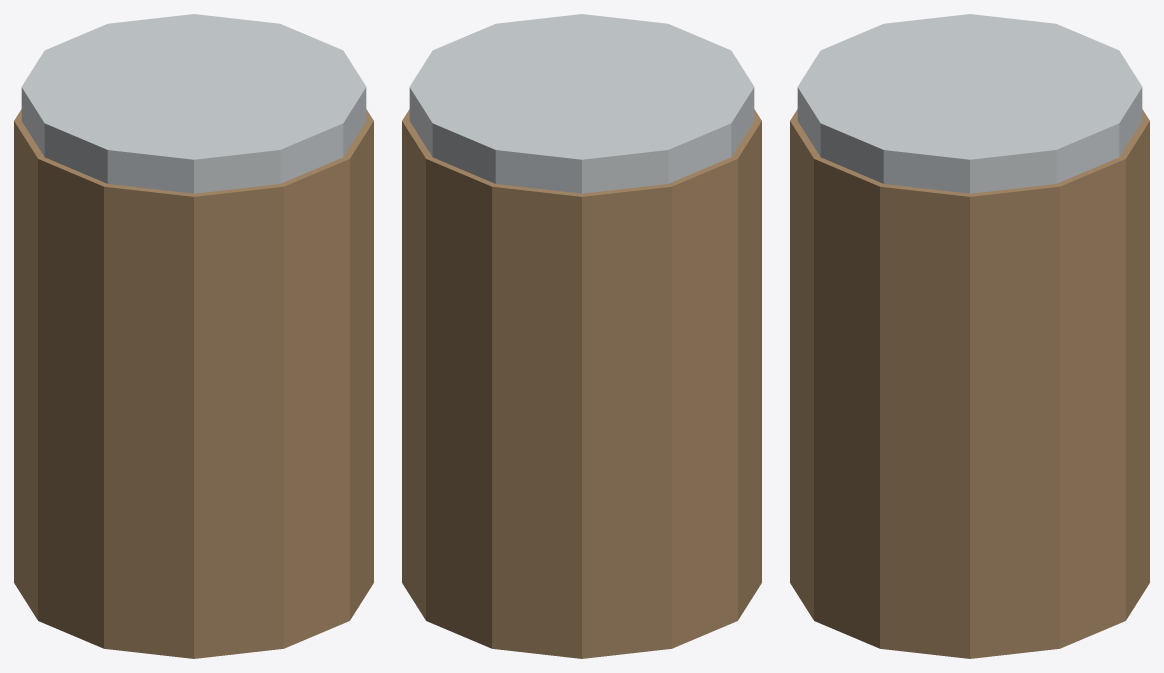
Rendered from product_coffee.glb.
3 renders of one model, left to right at view 1: azimuth 30°, elevation 25°; view 2: azimuth 150°, elevation 25°; view 3: azimuth 270°, elevation 25°, orthographic.
Parts seen in each view (by area): view 1: body.005, lid; view 2: body.005, lid; view 3: body.005, lid.
Boxes of the visible parts, x1,y1,x2,y2 form: body.005: (14, 109, 373, 658); lid: (21, 14, 366, 193); body.005: (402, 109, 761, 658); lid: (409, 14, 754, 193); body.005: (790, 109, 1149, 658); lid: (797, 14, 1142, 193).
Bounding box in the file's own units: 0.24 × 0.365 × 0.24.
